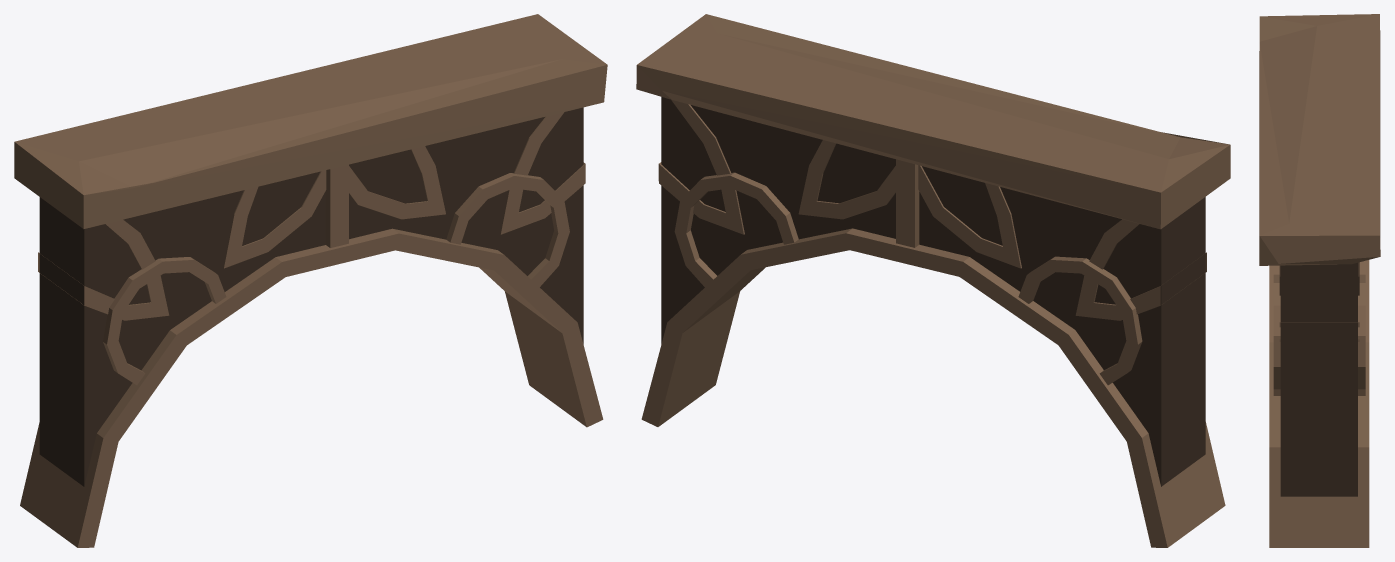
The model's file is SM_arch_norse.fbx.
The picture shows the model from 3 angles, left to right: view 1: azimuth 30°, elevation 25°; view 2: azimuth 150°, elevation 25°; view 3: azimuth 270°, elevation 25°; orthographic projection. The views are drawn at different scales.
Parts seen in each view (by area): view 1: Cylinder053; view 2: Cylinder053; view 3: Cylinder053.
Boxes of the visible parts, box(x1,y1,x2,y2) form: Cylinder053: box(14, 14, 607, 547); Cylinder053: box(636, 14, 1230, 547); Cylinder053: box(1259, 14, 1380, 547).
Bounding box in the file's own units: 99.17 × 65.45 × 22.84.
